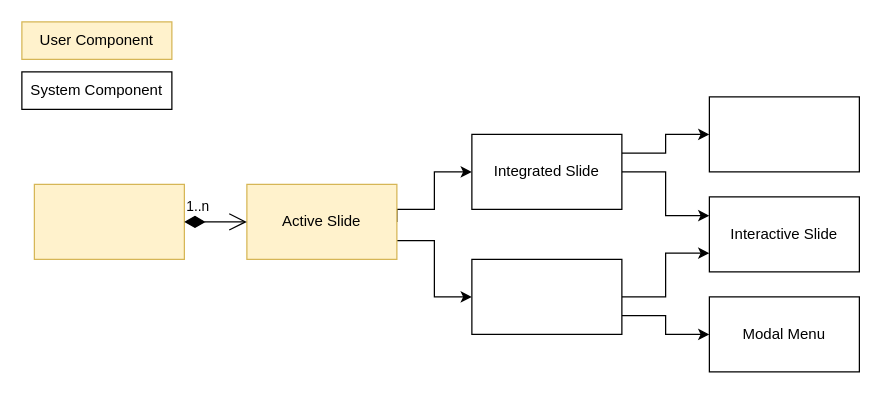
Image size: 881x394. Some labels were removed from this diagram. Here are the shapes that lost their labels. From the top down, the centre of each, then its label:
(783,134): Integrated Menu
(108,221): Slide List
(546,296): Modal Slide
